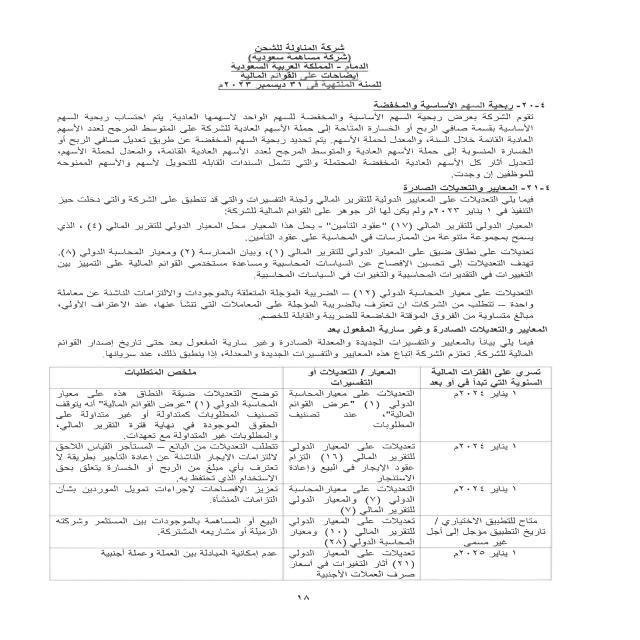notes: (227, 72, 359, 82)
table: (29, 362, 568, 588)
